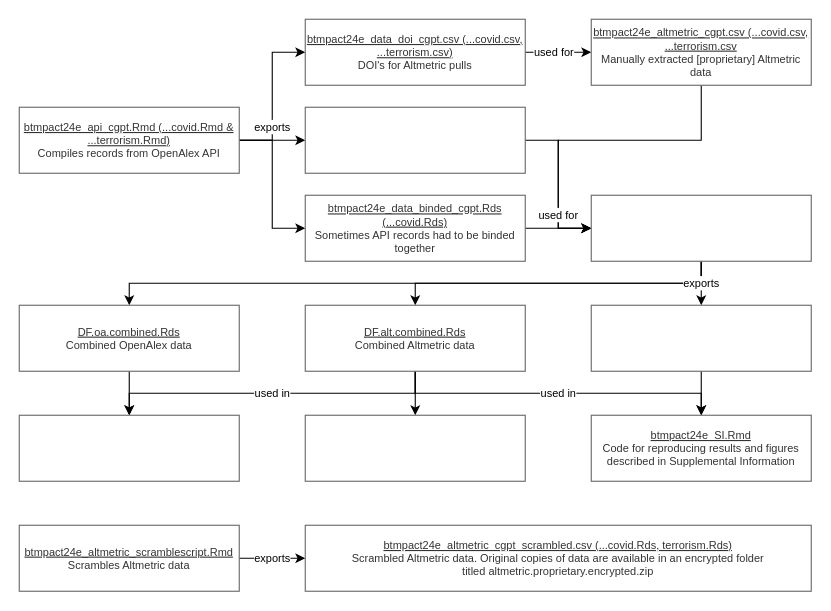
Image size: 831x611. Some labels were removed from this diagram. Here are the shapes that lost their labels. From the top down, the centre of each, then its label:
At point (414, 139): "btmpact24e_data_raw_cgpt.Rds (...covid.Rds, terrorism.Rds) Raw API records".
At point (700, 227): "btmpact24e_combine.Rds Combines Altmetric and OpenAlex data".
At point (700, 337): "DF.full.combined.Rds All data combined".
At point (128, 447): "btmpact24e_figure.Rmd Makes main figure for paper".
At point (414, 447): "btmpact24e_paperrefs.Rmd Code for reproducing results described in paper".
